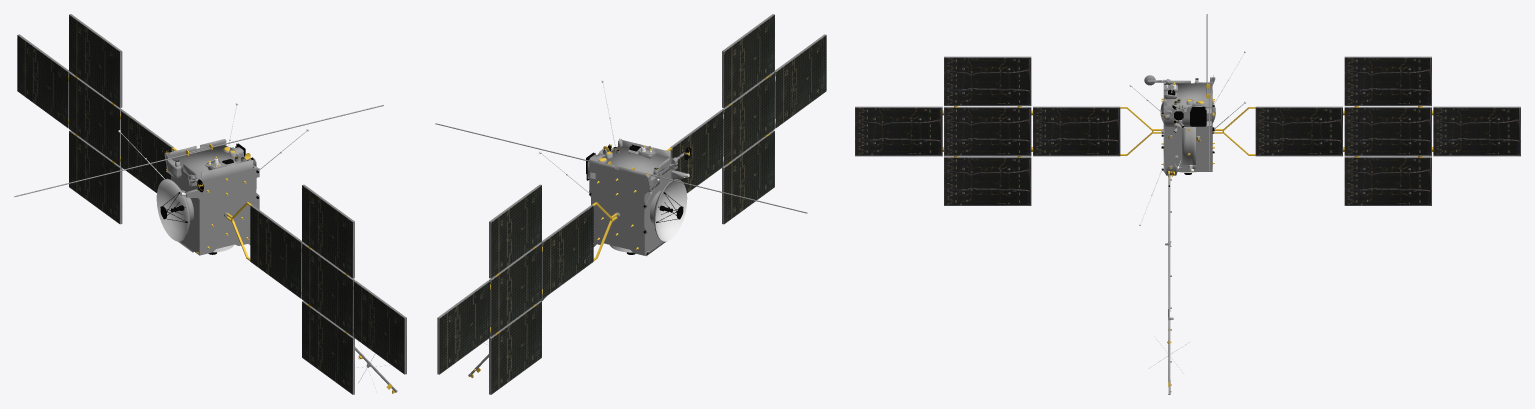
Rendered from juice.gltf.
3 renders of one model, left to right at view 1: azimuth 30°, elevation 25°; view 2: azimuth 150°, elevation 25°; view 3: azimuth 270°, elevation 25°, orthographic. The views are drawn at different scales.
Parts seen in each view (by area): view 1: right_panel, left_panel, bus, hga, rime; view 2: left_panel, right_panel, bus, hga, rime, things; view 3: left_panel, right_panel, bus, magboom.
Part boxes in pixels (x1,y1,x2,y2): right_panel: [226, 184, 406, 394]; left_panel: [17, 14, 177, 224]; bus: [160, 139, 259, 255]; hga: [156, 179, 188, 241]; rime: [14, 105, 383, 197]; left_panel: [437, 184, 617, 394]; right_panel: [666, 14, 826, 224]; bus: [587, 139, 685, 256]; hga: [655, 179, 687, 241]; rime: [435, 123, 807, 213]; things: [590, 138, 689, 255]; left_panel: [1214, 56, 1520, 205]; right_panel: [855, 56, 1161, 205]; bus: [1144, 75, 1215, 175]; magboom: [1149, 171, 1189, 394].
Bounding box in the file's own units: 14.91 × 11.88 × 26.98.
Materials: 7 (1 with a texture image).
